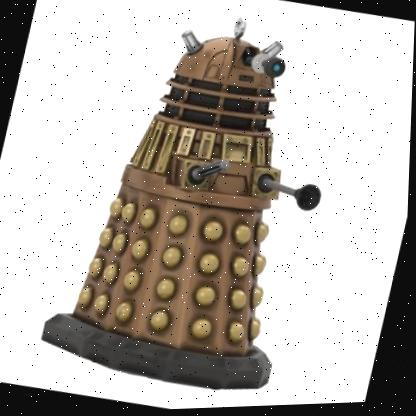dalek: (17, 0, 380, 415)
